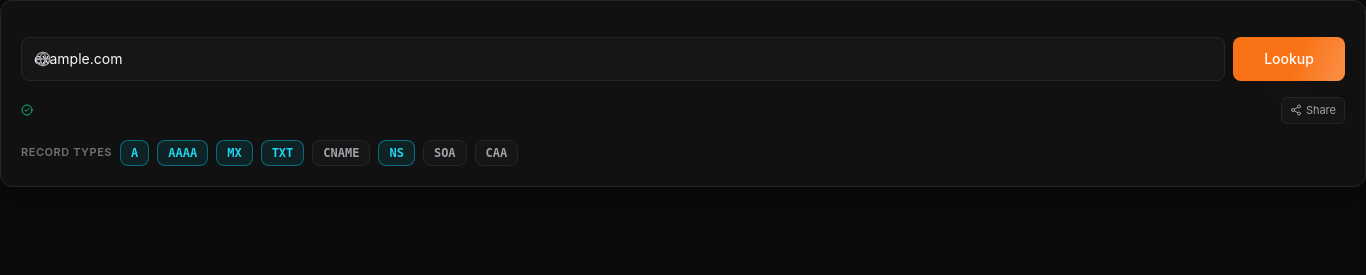
Test: DnsClient — accessibility surface › flags a blank-domain error with role=alert so screen readers announce it
Clear the default value
Clear the field named "enter domain". click: (623, 59)
box: [21,37,1225,81]
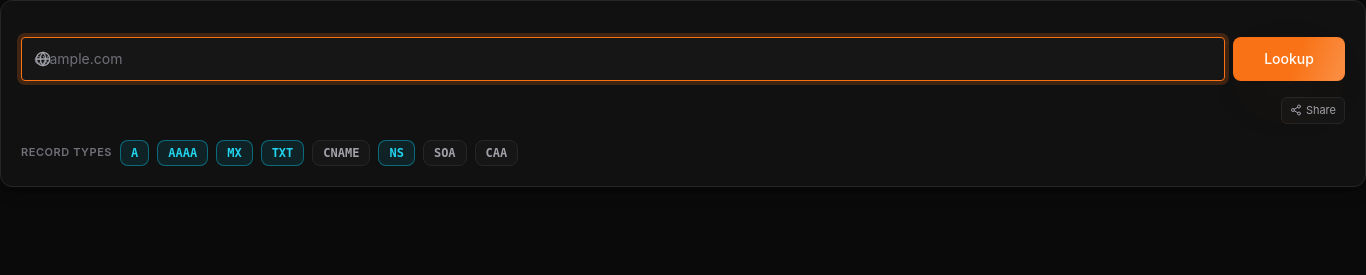
Click the button "Lookup". click: click(1289, 59)
box: [1233,37,1345,81]
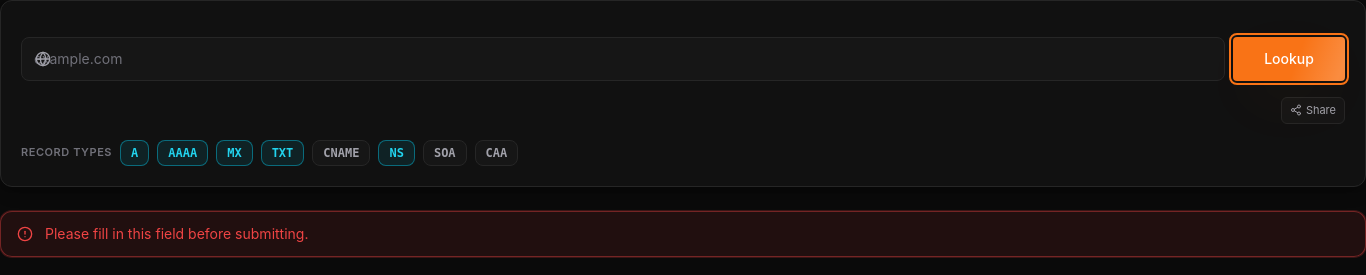
Check: the message "Please fill in this field before submitting." is shown, box [0,210,1365,256]
